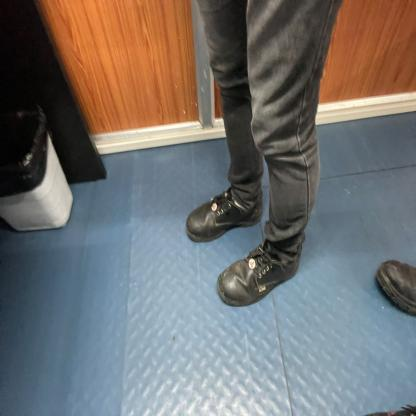bota: (216, 237, 302, 308), (185, 186, 263, 244), (371, 249, 416, 316)
